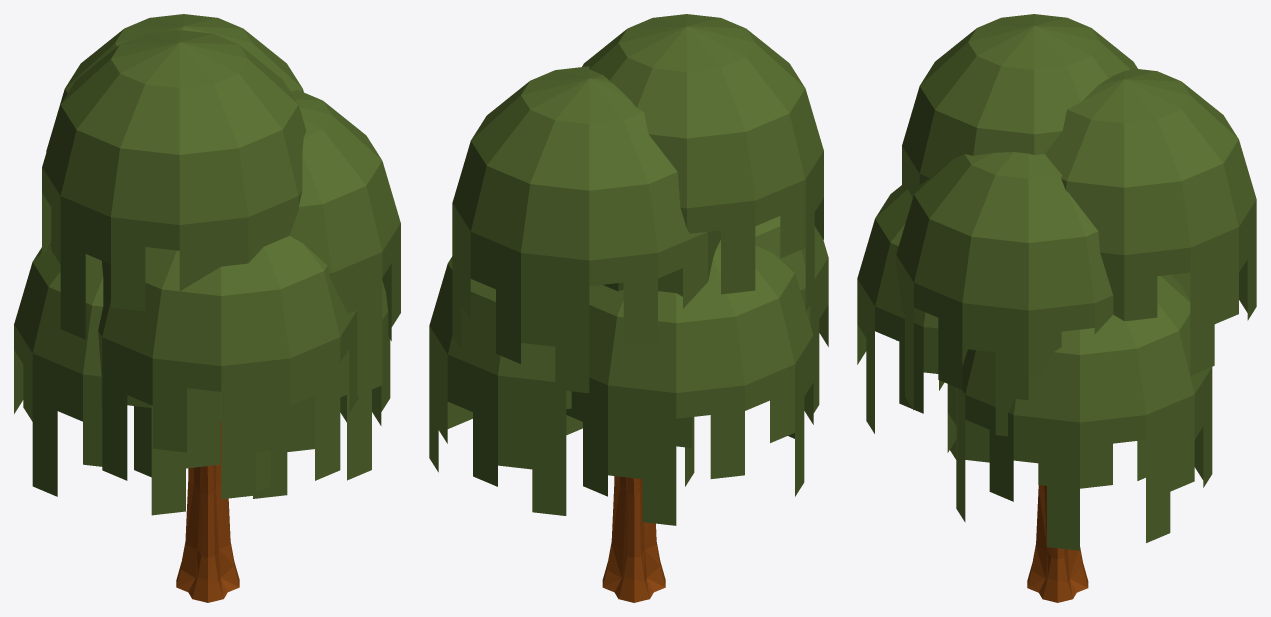
Rendered from willow_tree_5.fbx.
3 views of the same model, side by side, from view 1: azimuth 30°, elevation 25°; view 2: azimuth 150°, elevation 25°; view 3: azimuth 270°, elevation 25° (orthographic). The views are drawn at different scales.
Visible parts, largest first — view 1: _G-Object (Loose Mesh), G-Object.003; view 2: _G-Object (Loose Mesh), G-Object.003; view 3: _G-Object (Loose Mesh), G-Object.003.
Part boxes in pixels (x1,y1,x2,y2): _G-Object (Loose Mesh): (14,14,400,515); G-Object.003: (176,421,239,602); _G-Object (Loose Mesh): (429,14,828,525); G-Object.003: (602,476,665,602); _G-Object (Loose Mesh): (857,14,1256,550); G-Object.003: (1027,485,1088,602).
Bounding box in the file's own units: 880 × 1379 × 919.
